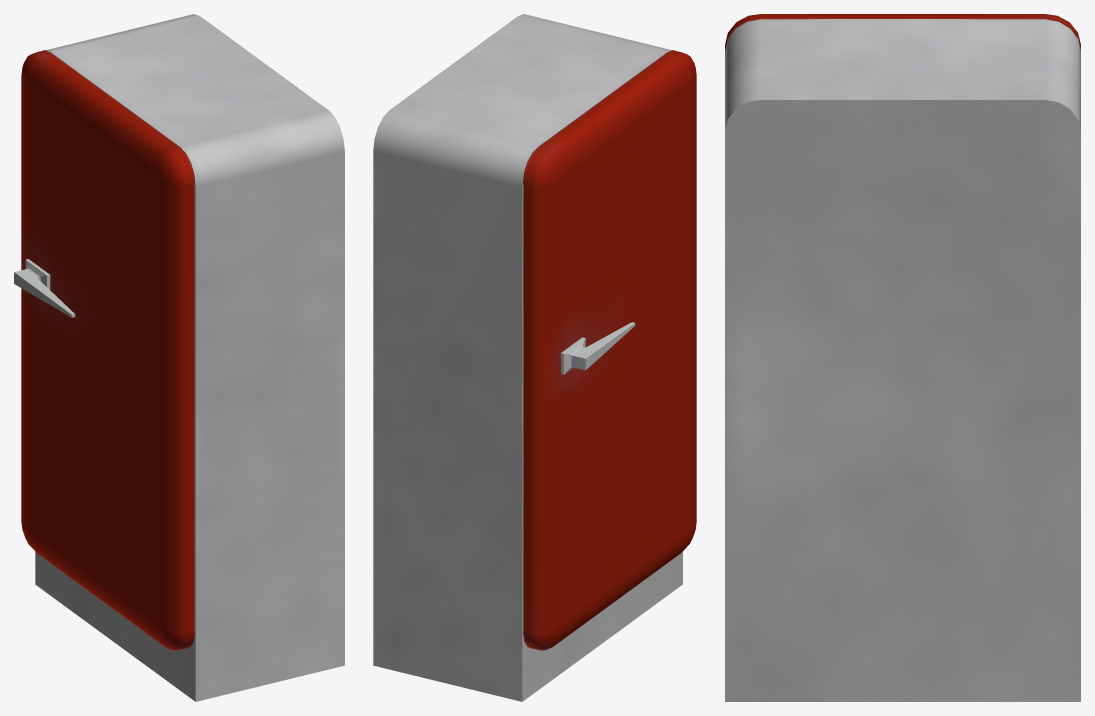
File: fbx_Geladeira.fbx
The picture shows the model from 3 angles, left to right: view 1: azimuth 30°, elevation 25°; view 2: azimuth 150°, elevation 25°; view 3: azimuth 270°, elevation 25°; orthographic projection. The views are drawn at different scales.
Parts seen in each view (by area): view 1: pCube163, pCube164, pCube166; view 2: pCube163, pCube164, pCube166; view 3: pCube163, pCube164.
Boxes of the visible parts, left/top/right/bottom form: pCube163: left=35, top=14, right=344, bottom=701; pCube164: left=21, top=50, right=194, bottom=650; pCube166: left=14, top=259, right=75, bottom=317; pCube163: left=373, top=14, right=682, bottom=701; pCube164: left=523, top=50, right=696, bottom=650; pCube166: left=561, top=322, right=635, bottom=374; pCube163: left=725, top=19, right=1080, bottom=701; pCube164: left=725, top=14, right=1080, bottom=50.
Size of the model in its own units: 0.5707 by 1.55 by 0.83.
Materials: 1 (1 with a texture image).
